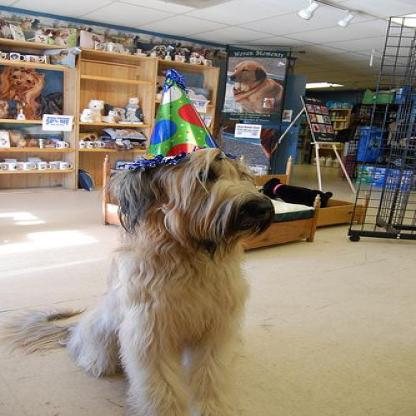briard: (0, 146, 279, 414), (229, 59, 280, 112)
